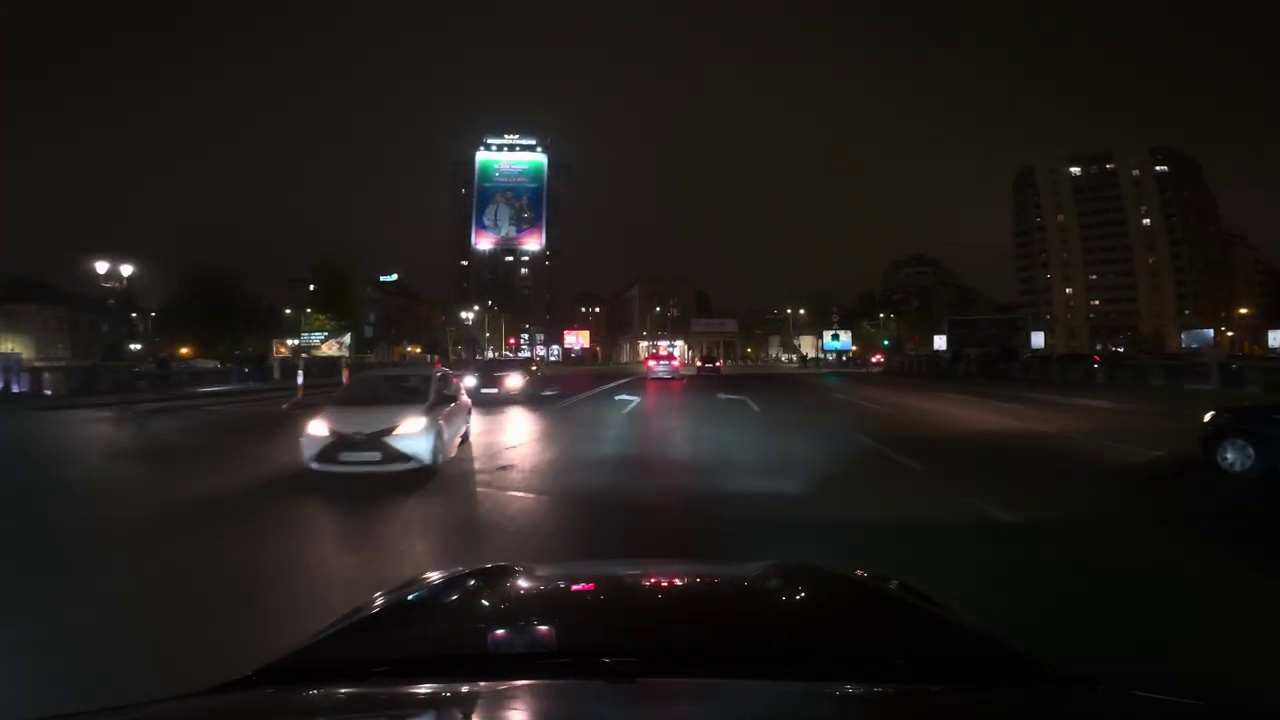acesa: (499, 410, 535, 449)
